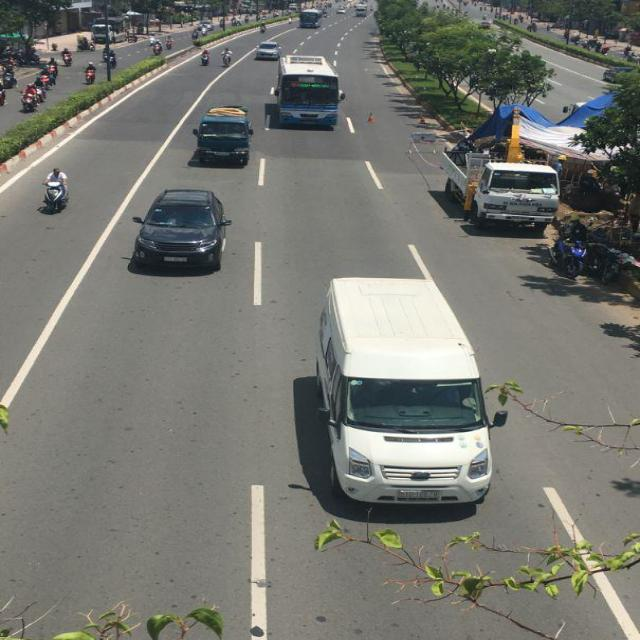bus: (275, 55, 341, 131)
car: (306, 250, 495, 515), (131, 186, 234, 272), (255, 42, 282, 62), (300, 11, 322, 29)
motorcycle: (39, 180, 69, 213), (202, 52, 210, 66)
truck: (468, 162, 562, 231), (192, 108, 254, 168), (92, 19, 117, 44)
